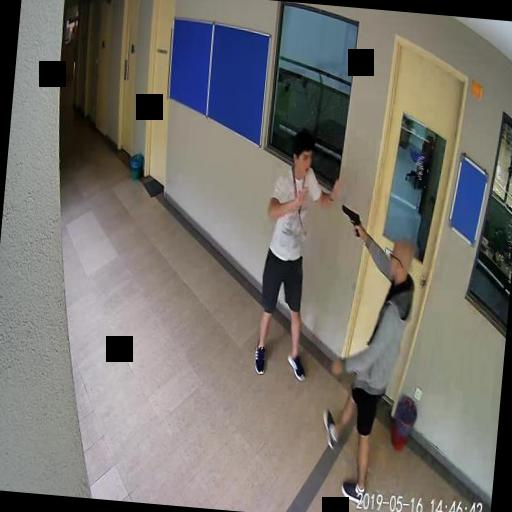Handgun: (338, 203, 363, 235)
